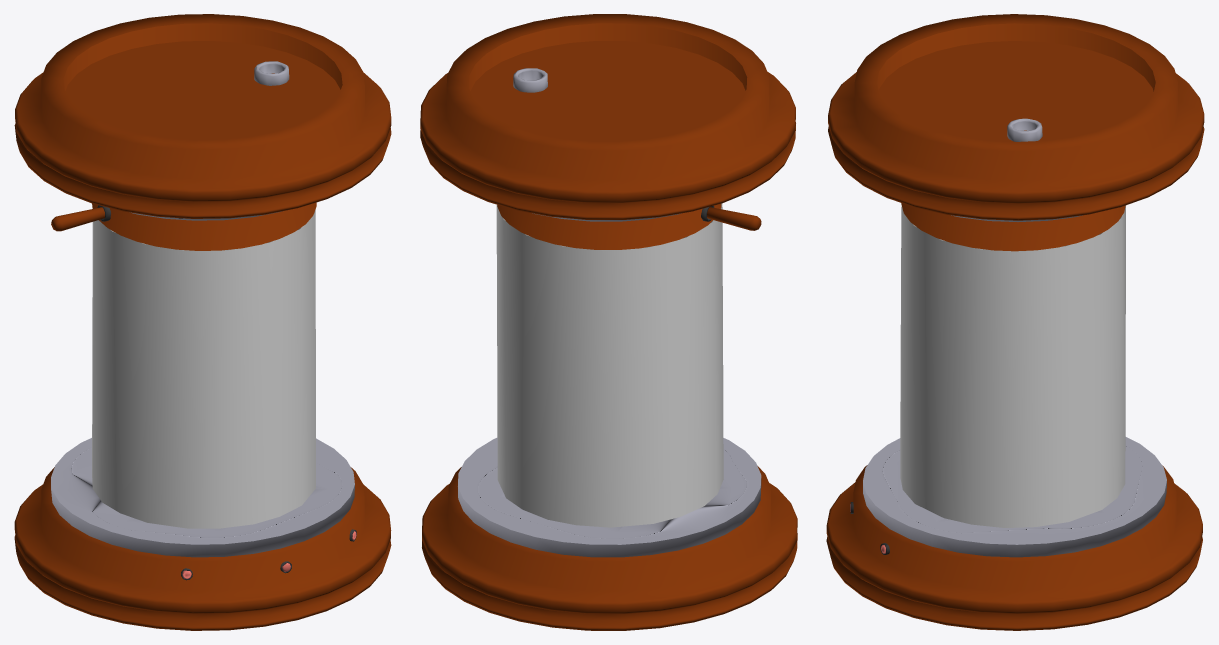
File: cafeteraa.fbx
3 renders of one model, left to right at view 1: azimuth 30°, elevation 25°; view 2: azimuth 150°, elevation 25°; view 3: azimuth 270°, elevation 25°, orthographic.
Visible parts, largest first — view 1: cafetera_01; view 2: cafetera_01; view 3: cafetera_01.
Boxes of the visible parts, x1,y1,x2,y2 form: cafetera_01: [14, 14, 391, 630]; cafetera_01: [420, 14, 797, 630]; cafetera_01: [826, 14, 1204, 630].
Bounding box in the file's own units: 24.37 × 33.56 × 24.39.
